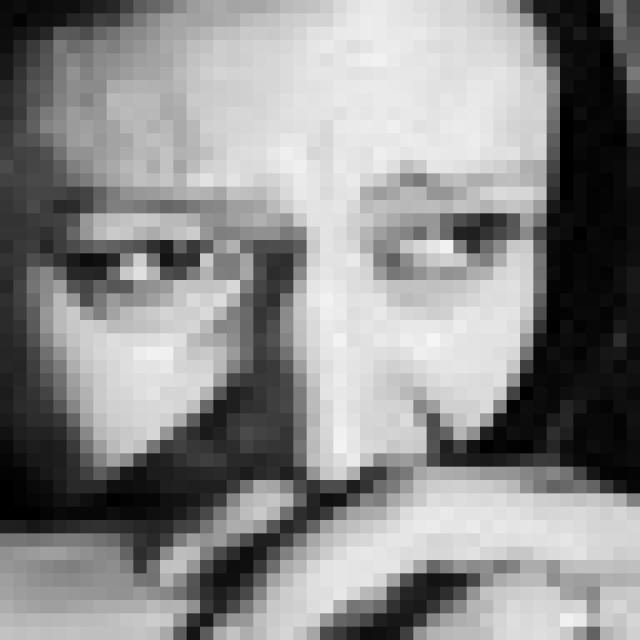fear: (41, 156, 538, 588)
